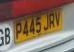4: (23, 21, 29, 37), (30, 18, 35, 35)
5: (35, 16, 42, 33)
J: (43, 13, 49, 30)
P: (16, 23, 22, 40)
R: (49, 13, 55, 29)
V: (55, 10, 61, 26)
